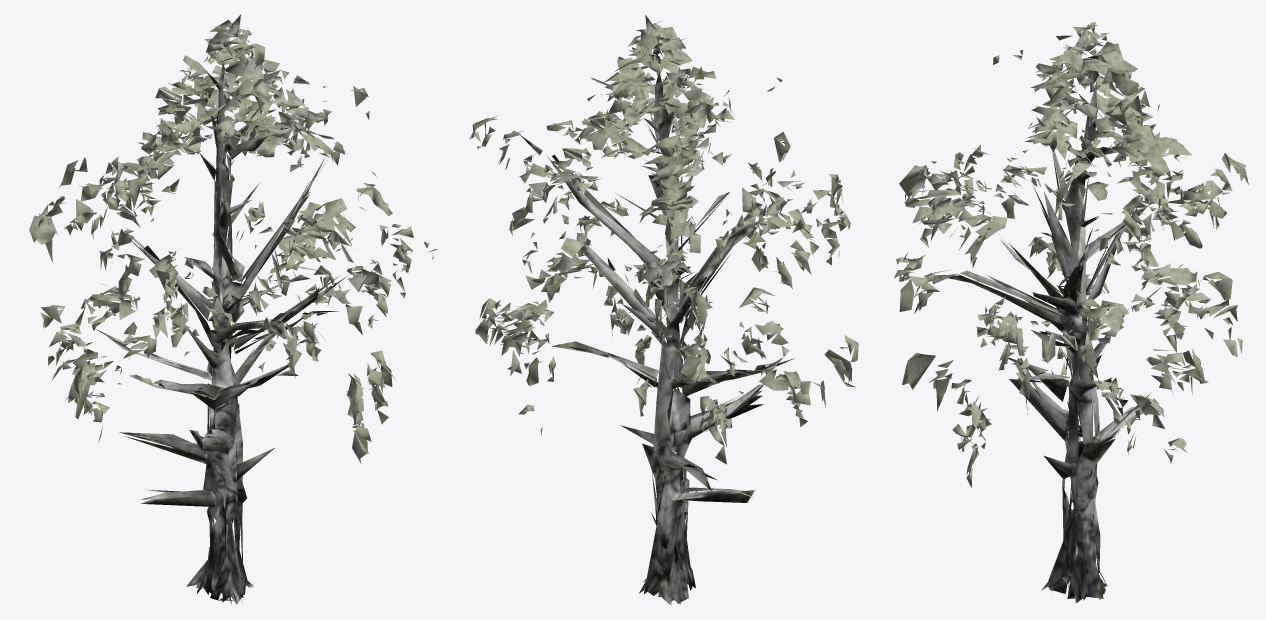
File: betula_prateada_morta.glb
3 views of the same model, side by side, from view 1: azimuth 30°, elevation 25°; view 2: azimuth 150°, elevation 25°; view 3: azimuth 270°, elevation 25° (orthographic).
Visible parts, largest first — view 1: geometry_0; view 2: geometry_0; view 3: geometry_0.
Part boxes in pixels (left/top/right/bottom): geometry_0: left=29, top=14, right=437, bottom=604; geometry_0: left=469, top=14, right=858, bottom=605; geometry_0: left=894, top=22, right=1248, bottom=603.
Bounding box in the file's own units: 0.6312 × 0.9845 × 0.5495.
1 material, 1 textured.
